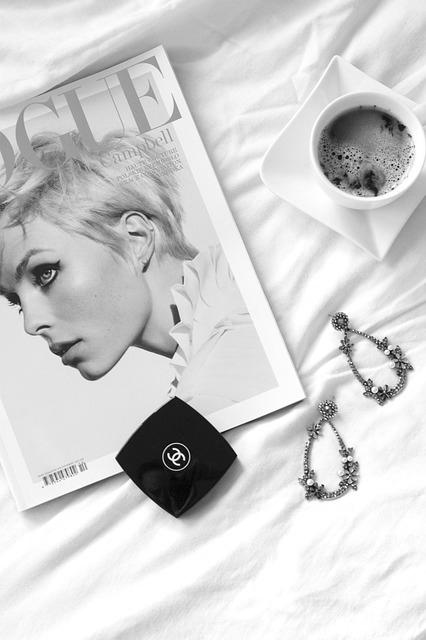Non_Gorille: (0, 55, 419, 640)
